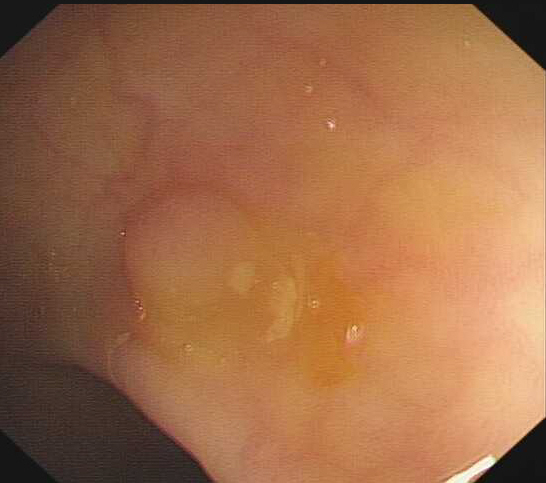others: (120, 183, 304, 355)
